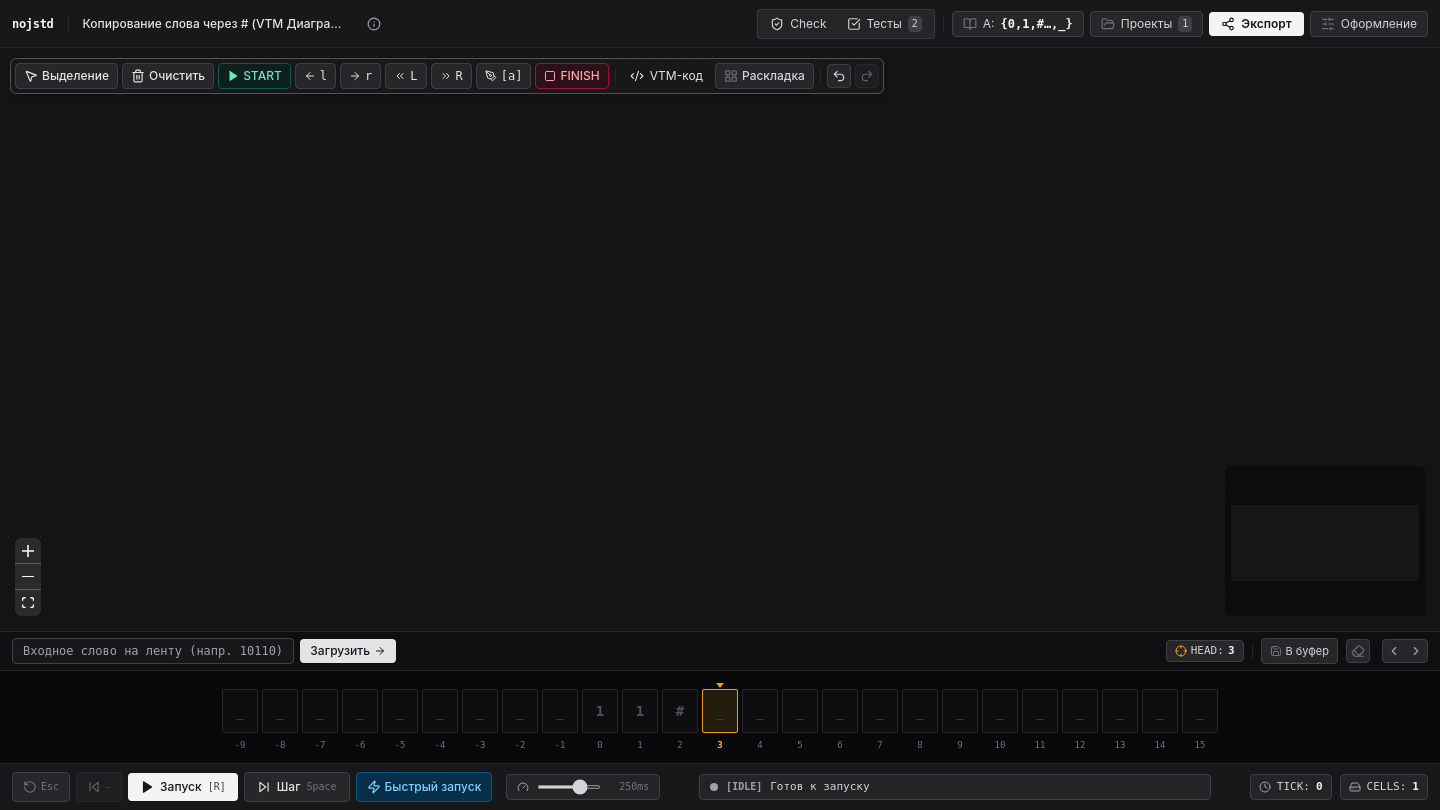
Test: React UI Components › HeaderNavbar omits mode switcher and App opens Check/Tests dropdown closing on X or Escape
This screenshot has width=1440, height=810.
Later steps or results of the test are not shown.
Click the button "Check" at (798, 24), box [760,12,837,36]
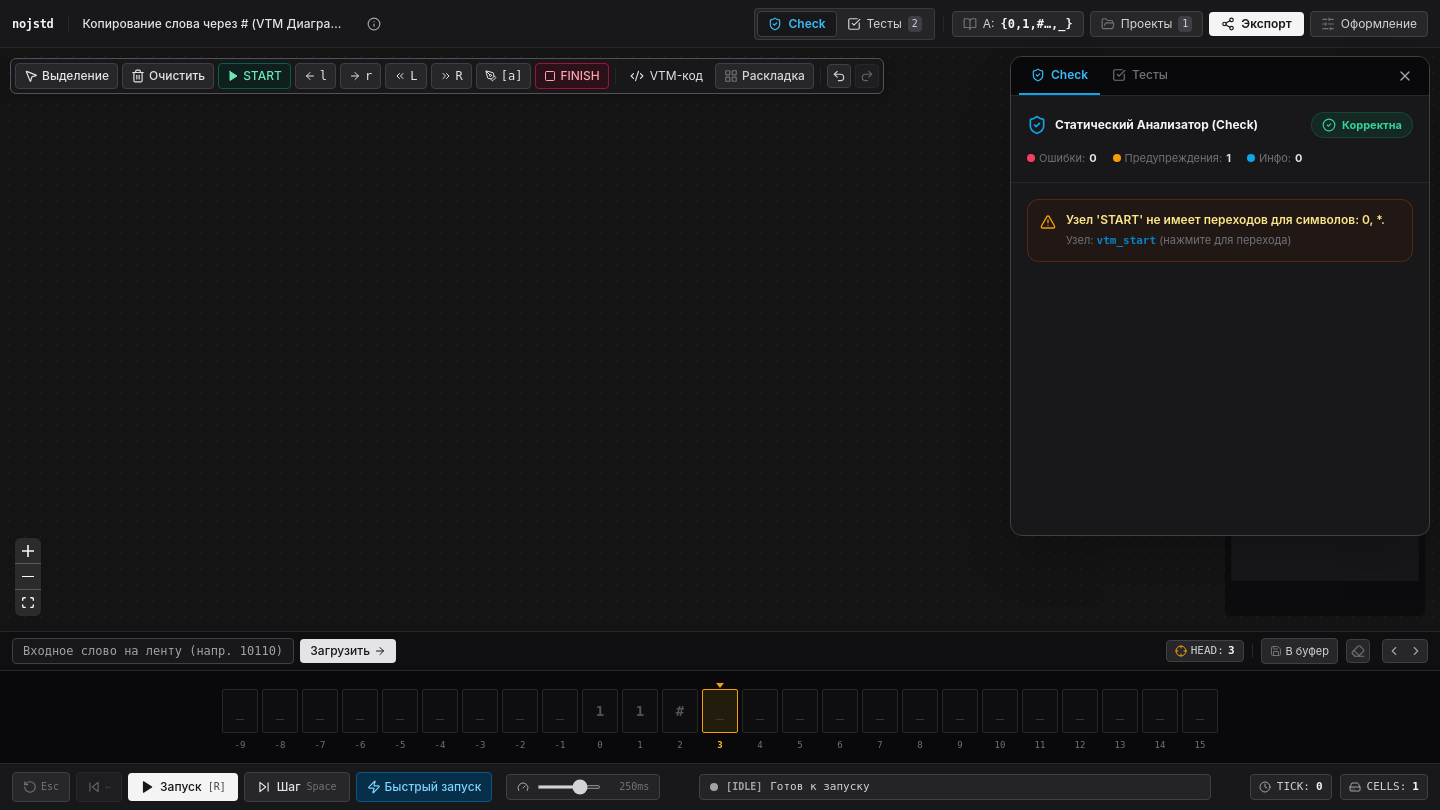
Check: the dialog named "Check и Тесты" is shown, box [1010,56,1430,536]
Check: the heading "Статический Анализатор (Check)" is shown, box [1055,117,1258,133]
// Switch to Тесты inside dropdown
Click the button "Тесты" at (1140, 76), box [1100,57,1180,95]
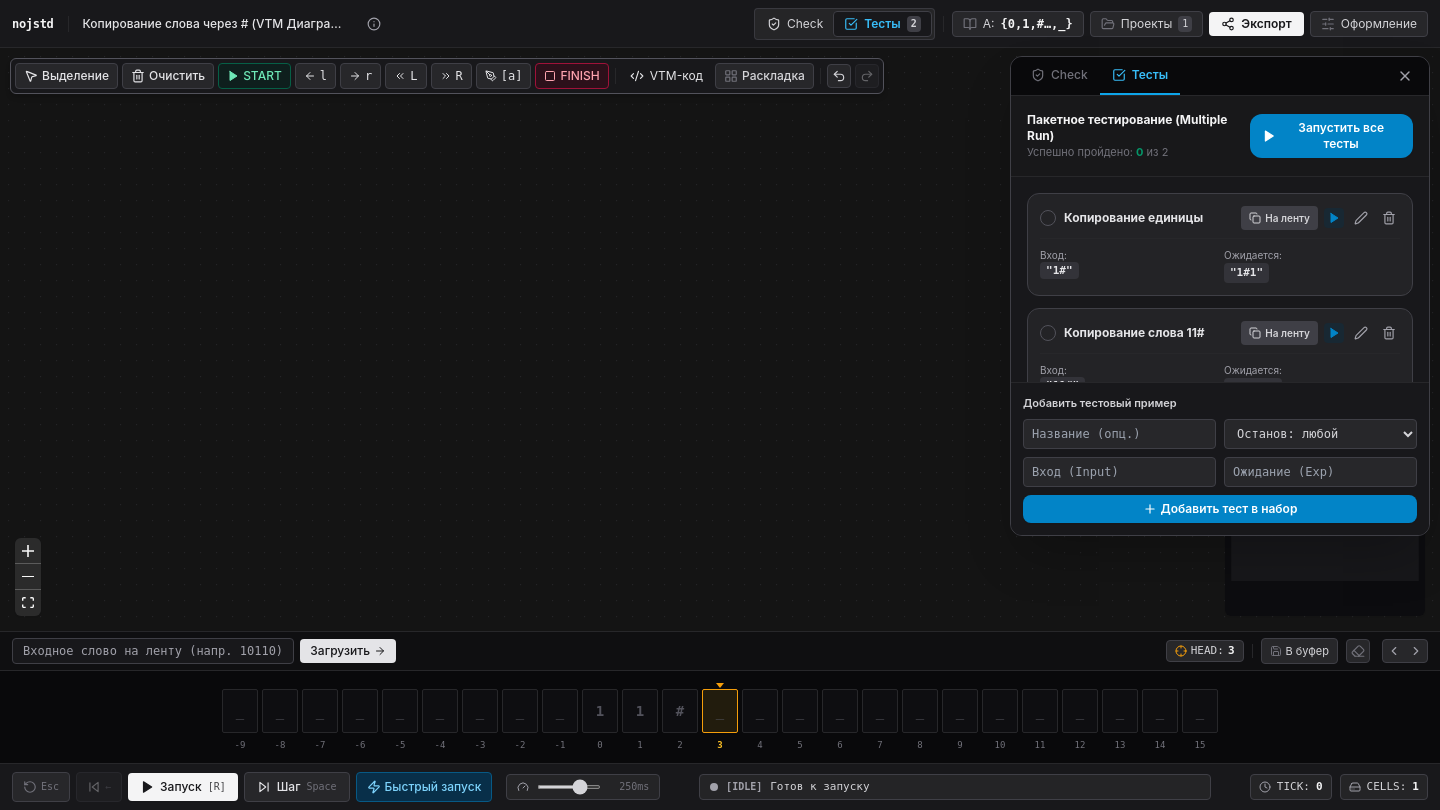
Check: the heading "Пакетное тестирование (Multiple Run)" is shown, box [1027,112,1250,144]
// Pressing Escape even inside an input closes the dropdown
Press Escape in the field with placeholder "Вход (Input)", box [1023,457,1216,487]
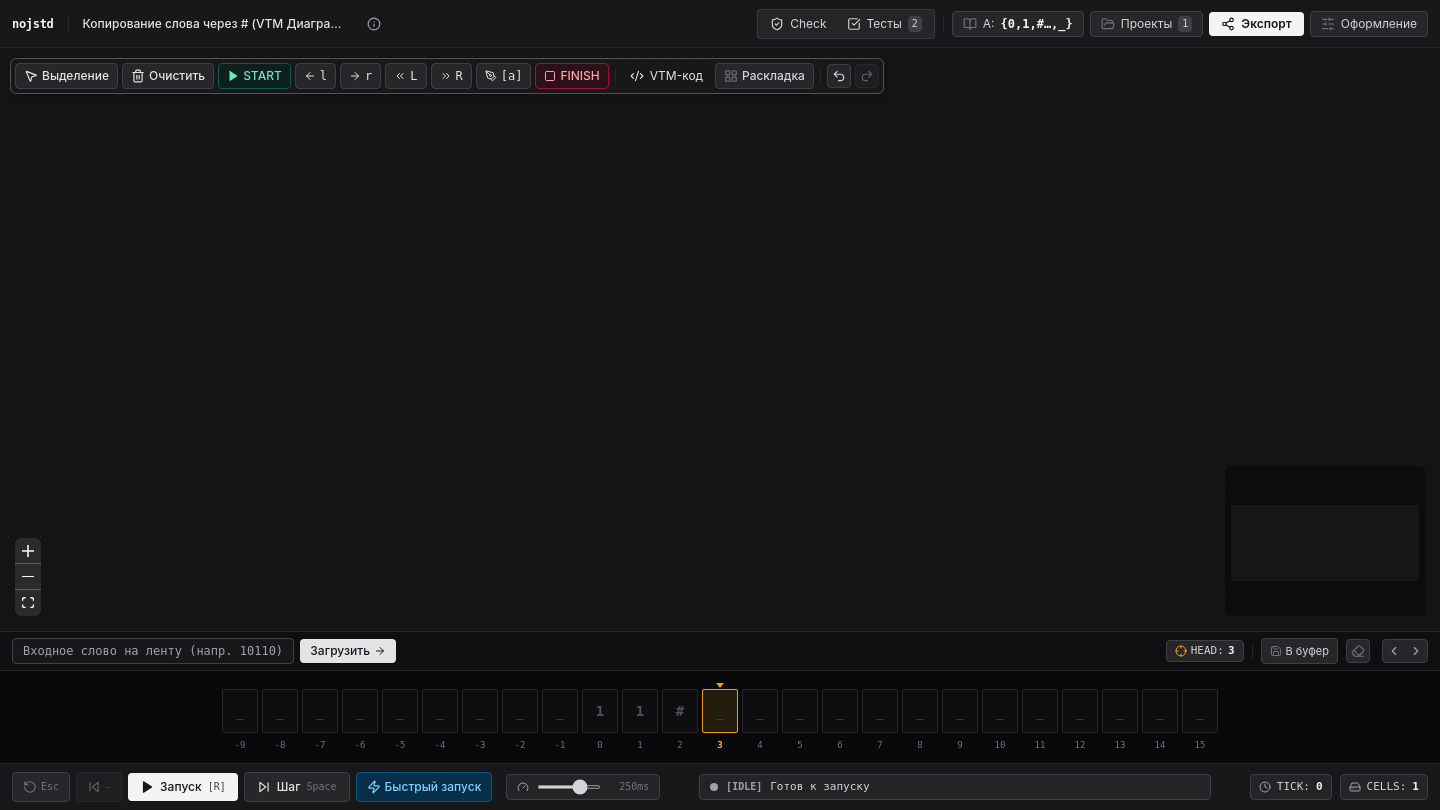
// Re-open via Тесты button in HeaderNavbar and close with X button
Click the button "Тесты 2" at (884, 24), box [837,12,932,36]
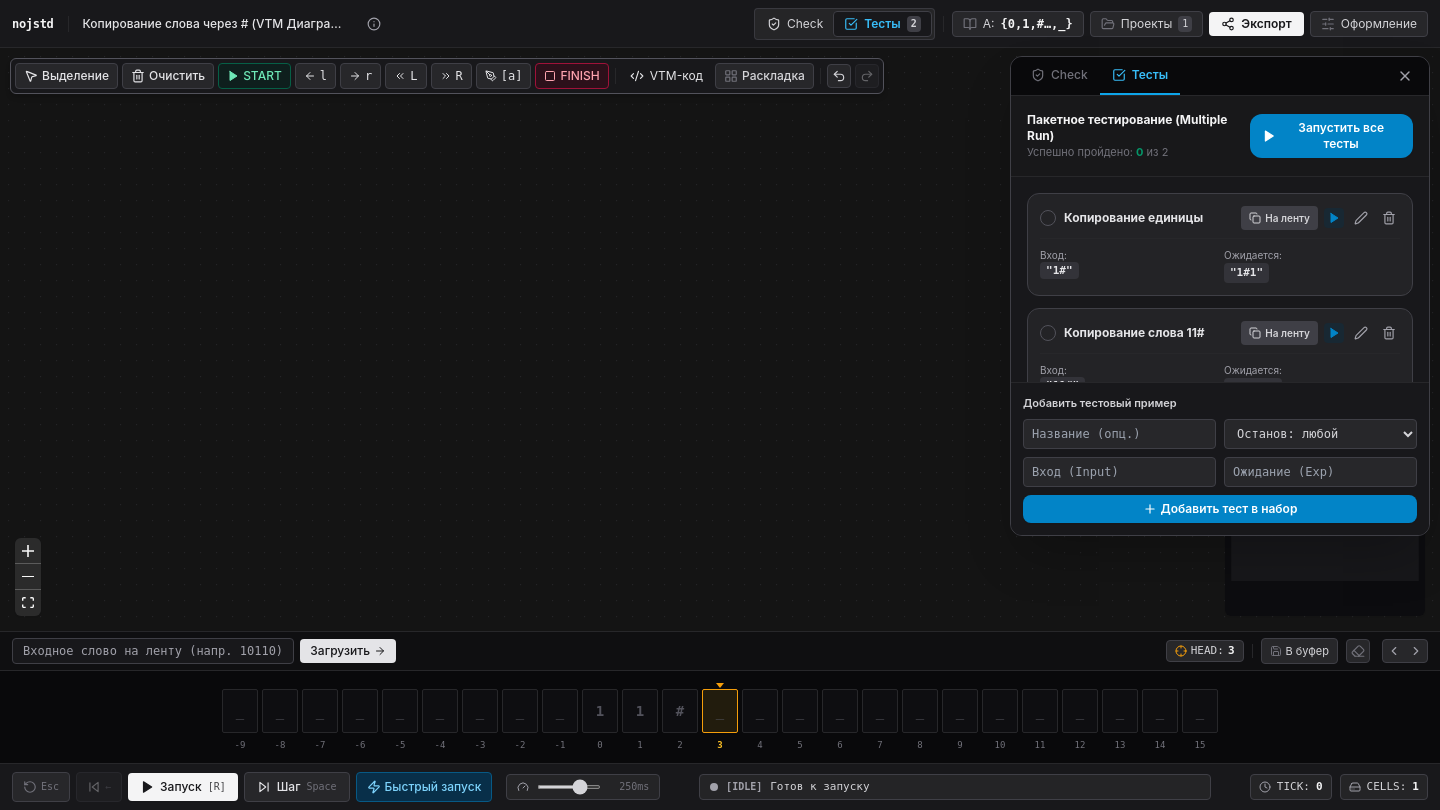
Check: the dialog named "Check и Тесты" is shown, box [1010,56,1430,536]
